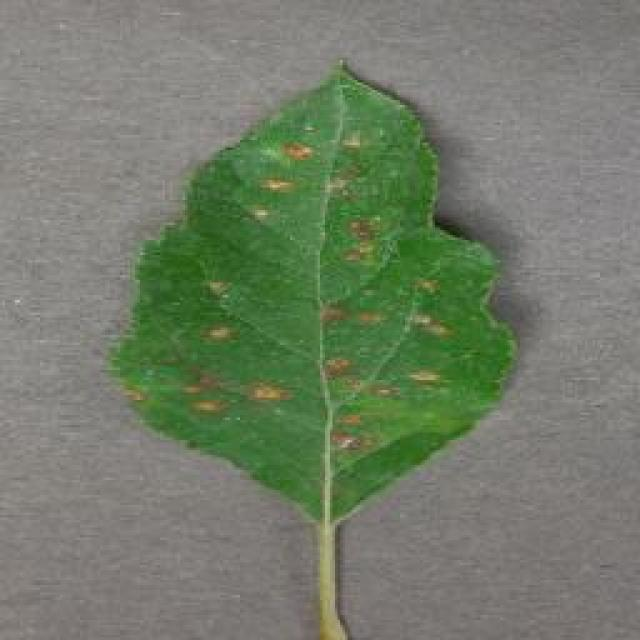Apple___Cedar_apple_rust: (93, 49, 523, 538)
